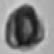correct: (5, 4, 46, 50)
